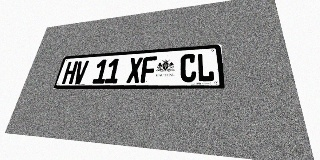1: (92, 59, 109, 84), (104, 58, 121, 83)
C: (180, 54, 196, 82)
F: (140, 56, 157, 83)
H: (61, 61, 78, 84)
L: (197, 52, 215, 82)
V: (72, 60, 89, 84)
X: (126, 57, 143, 83)
